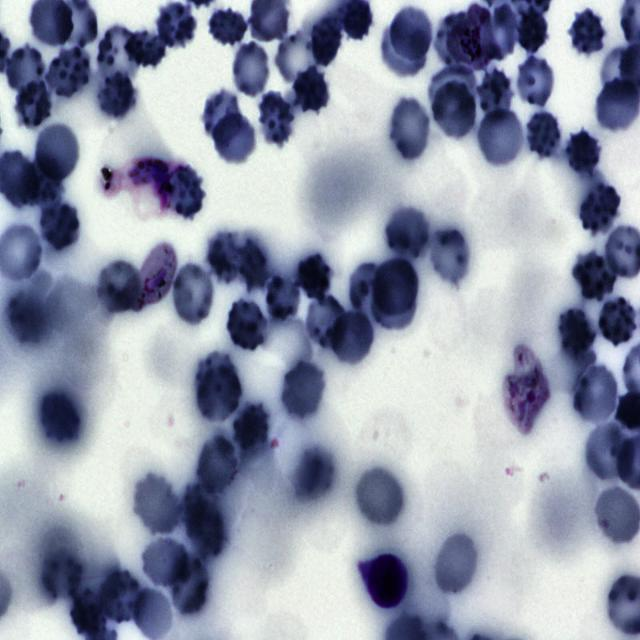leukocyte: (362, 551, 409, 611)
red blood cell: (193, 355, 242, 423), (354, 465, 405, 529), (432, 531, 480, 598), (475, 106, 525, 170), (328, 304, 376, 370), (132, 473, 181, 537), (387, 95, 433, 163), (170, 260, 217, 326), (572, 362, 620, 426), (381, 15, 428, 80), (35, 387, 84, 449), (33, 121, 81, 184), (424, 225, 471, 288), (280, 358, 326, 422), (196, 434, 242, 498), (94, 258, 144, 315), (428, 64, 479, 119), (372, 258, 420, 316), (210, 109, 258, 166), (586, 424, 634, 480), (384, 204, 431, 261), (161, 163, 206, 221), (184, 496, 225, 558), (432, 81, 477, 137), (37, 198, 82, 254), (348, 261, 388, 324), (44, 46, 91, 99), (570, 250, 616, 304), (578, 180, 622, 236), (96, 26, 140, 82), (170, 554, 208, 618), (390, 6, 434, 61), (256, 91, 298, 148), (94, 68, 138, 122), (275, 30, 318, 85), (226, 297, 268, 353), (99, 571, 146, 621), (481, 1, 518, 62), (512, 57, 556, 108), (524, 108, 564, 162), (7, 45, 47, 99), (306, 294, 345, 349), (293, 251, 335, 302), (18, 157, 62, 205), (202, 88, 243, 139), (142, 539, 186, 586), (232, 41, 268, 98), (568, 8, 608, 59), (206, 5, 249, 50), (156, 0, 197, 47), (41, 550, 81, 598), (134, 589, 172, 639), (310, 14, 345, 67), (559, 308, 596, 358), (478, 70, 514, 120), (599, 298, 637, 345), (15, 80, 50, 130), (238, 238, 271, 291), (232, 402, 268, 450), (293, 67, 331, 112), (207, 231, 239, 283), (565, 129, 601, 175), (123, 28, 166, 66), (265, 276, 300, 322), (516, 8, 552, 52)
trophozoite: (502, 346, 550, 435), (446, 4, 500, 75), (122, 242, 178, 309), (126, 154, 173, 212)
